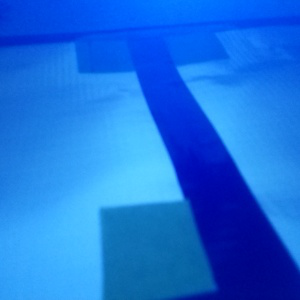bottom_left: (74, 30, 164, 72)
bottom_right: (133, 27, 229, 67)
top_left: (101, 200, 257, 300)
